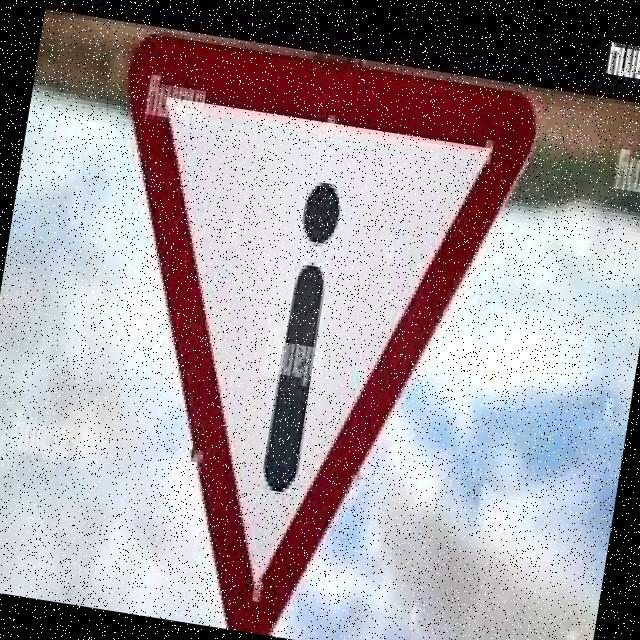warning: (44, 23, 554, 640)
